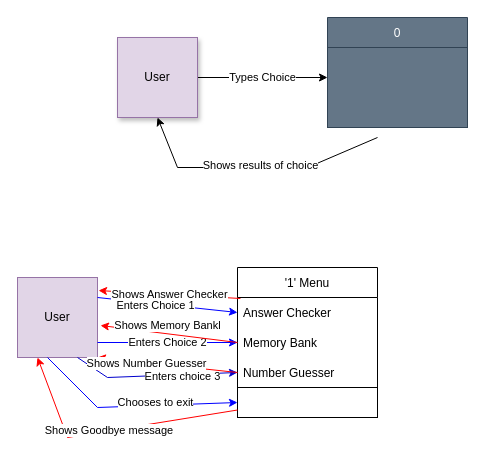
Image size: 485x463. Some labels were removed from this diagram. The centre of each missing label's shape, as x and y in pixels:
DataMan: (397,87)
Exit: (307,402)
